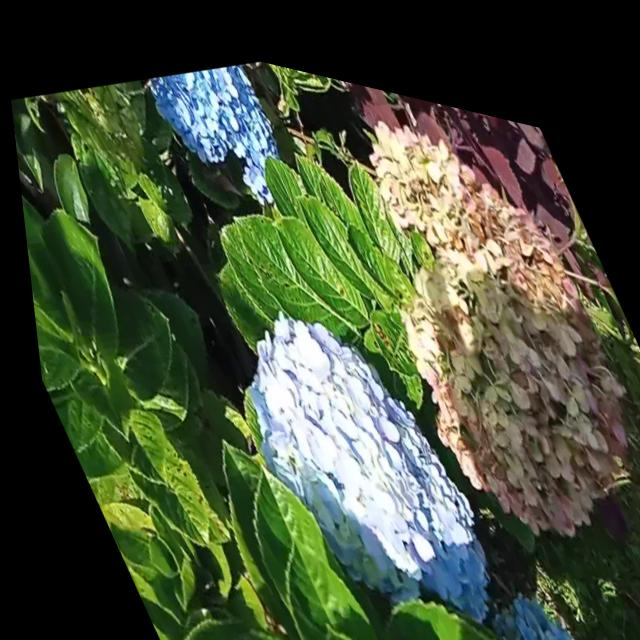Flower: (190, 249, 509, 640)
